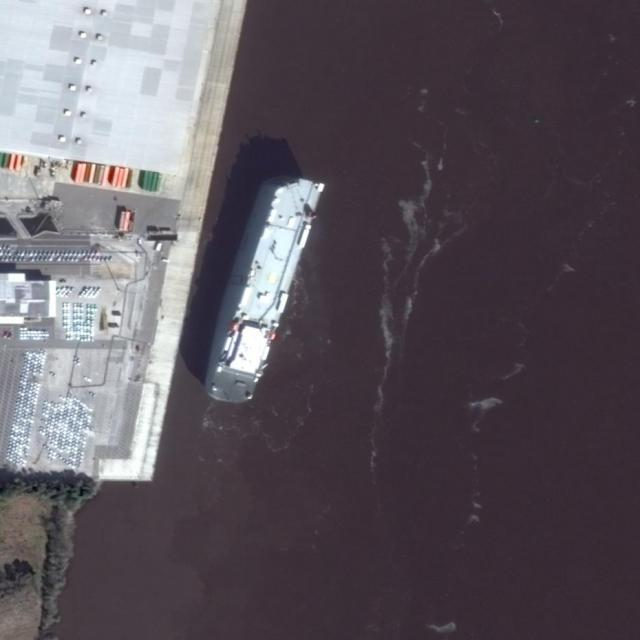RoRo: (194, 153, 334, 420)
